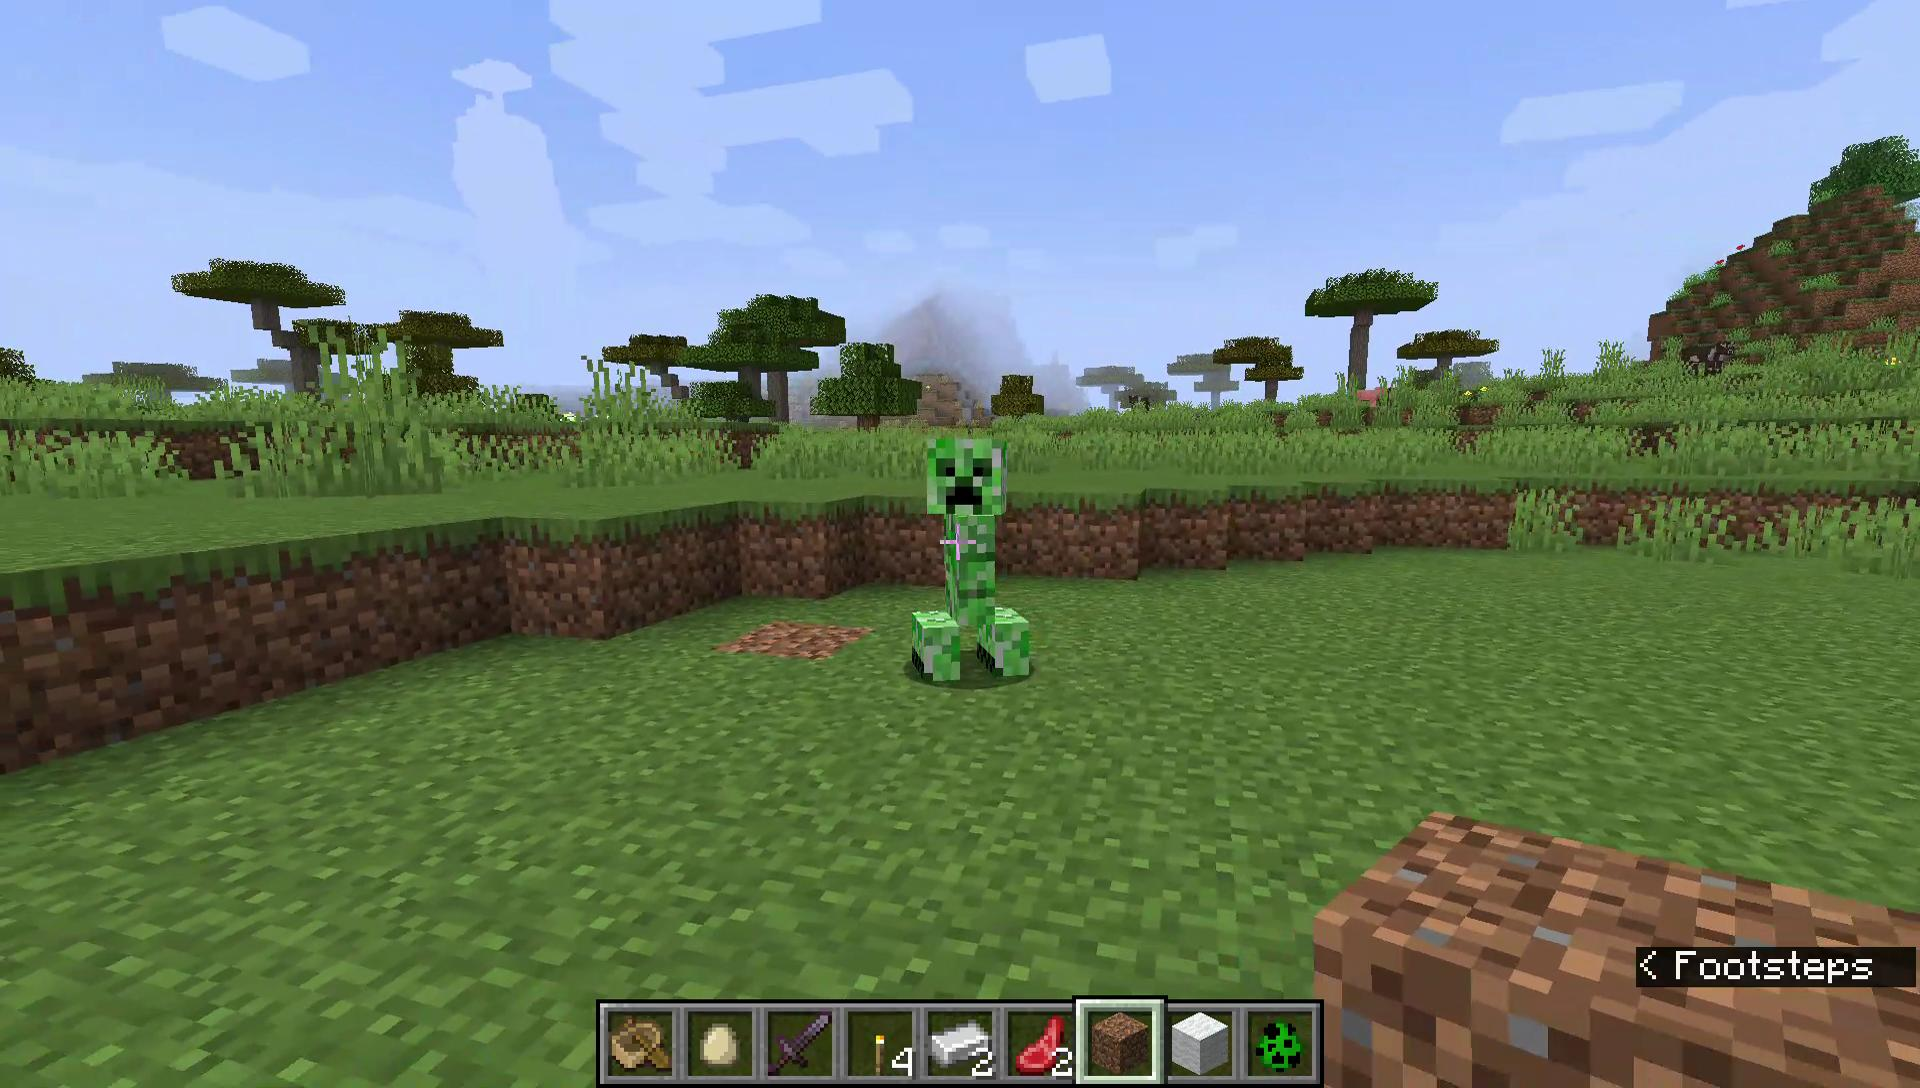creeper: (903, 430, 1038, 688)
